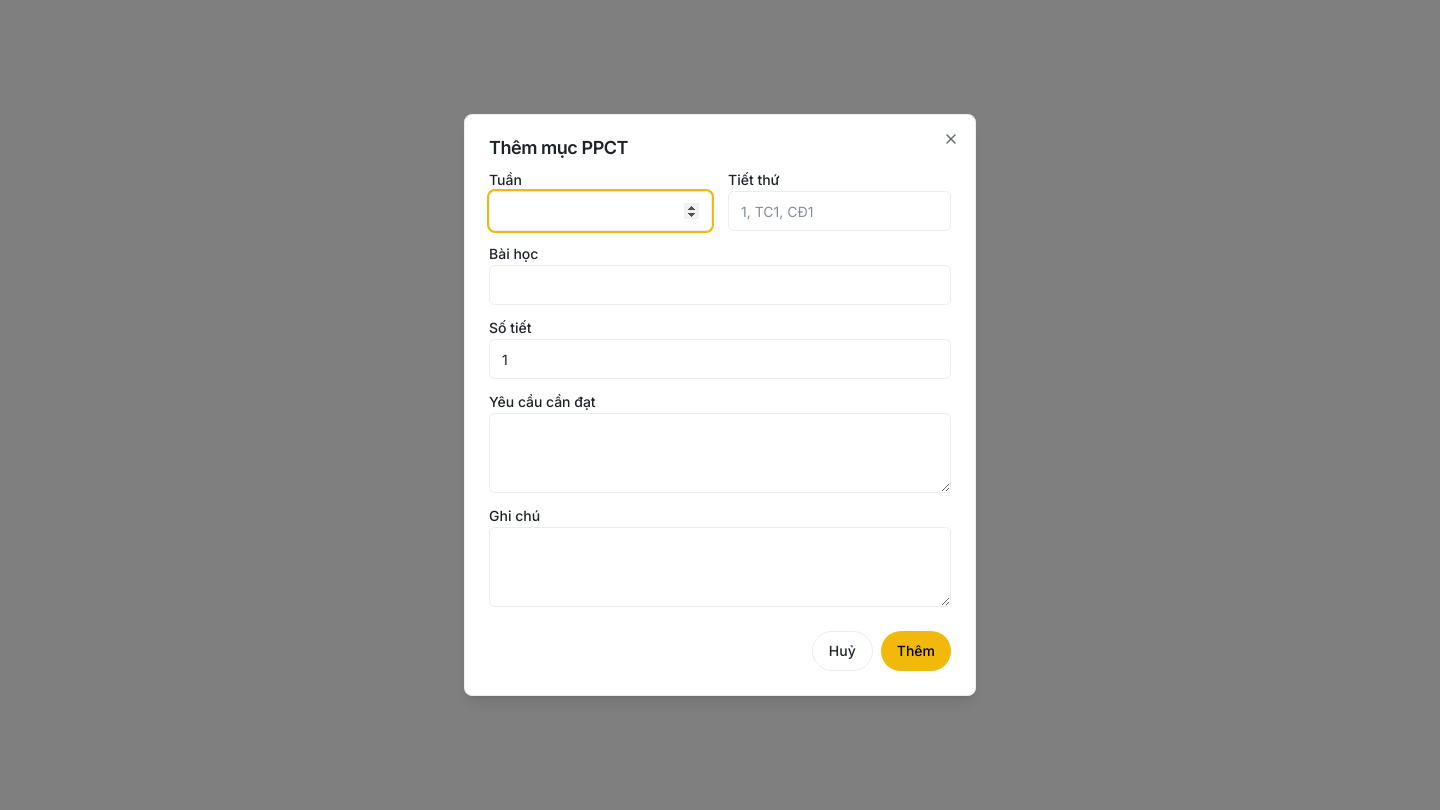
Scenario: tiền kiểm trước khi gọi API › Bài học để trống → hiện đúng thông báo và KHÔNG gọi API
This screenshot has width=1440, height=810.
In the number field labelled "Tuần": coordinates (600, 211) [489,191,712,231], type "1"
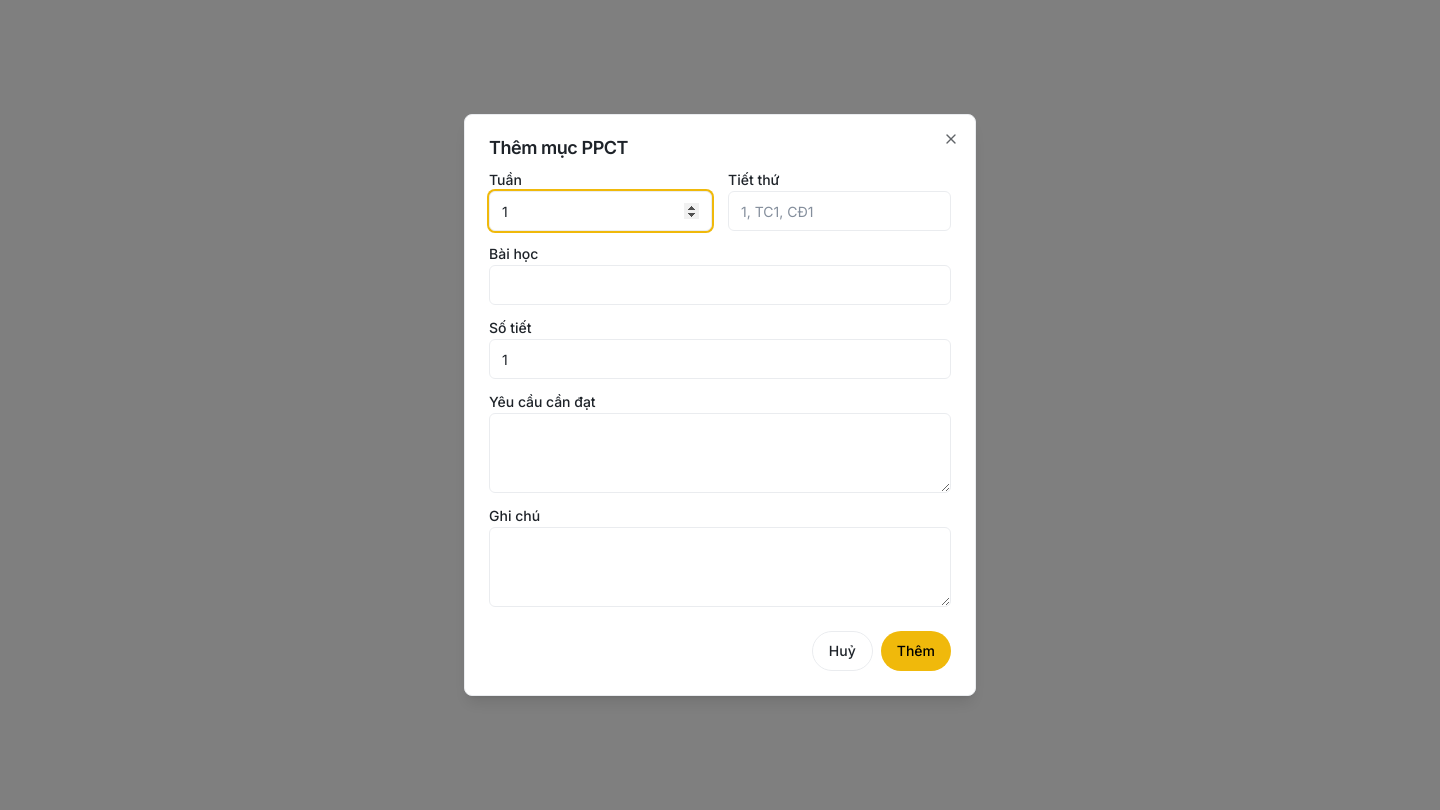
In the field labelled "Tiết thứ": coordinates (840, 211) [728,191,951,231], type "1"
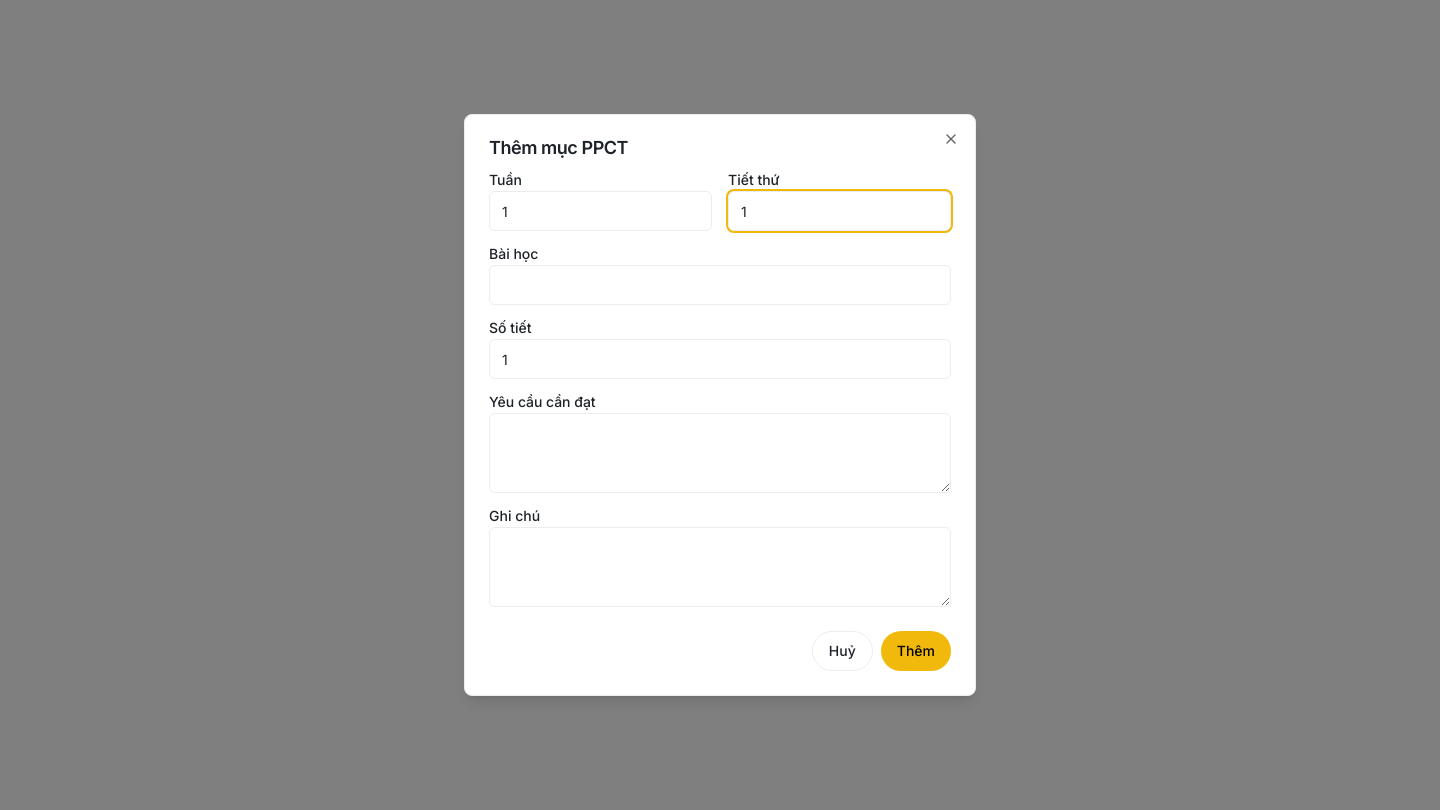
Click the button "Thêm": coordinates (916, 651) [881,631,951,671]
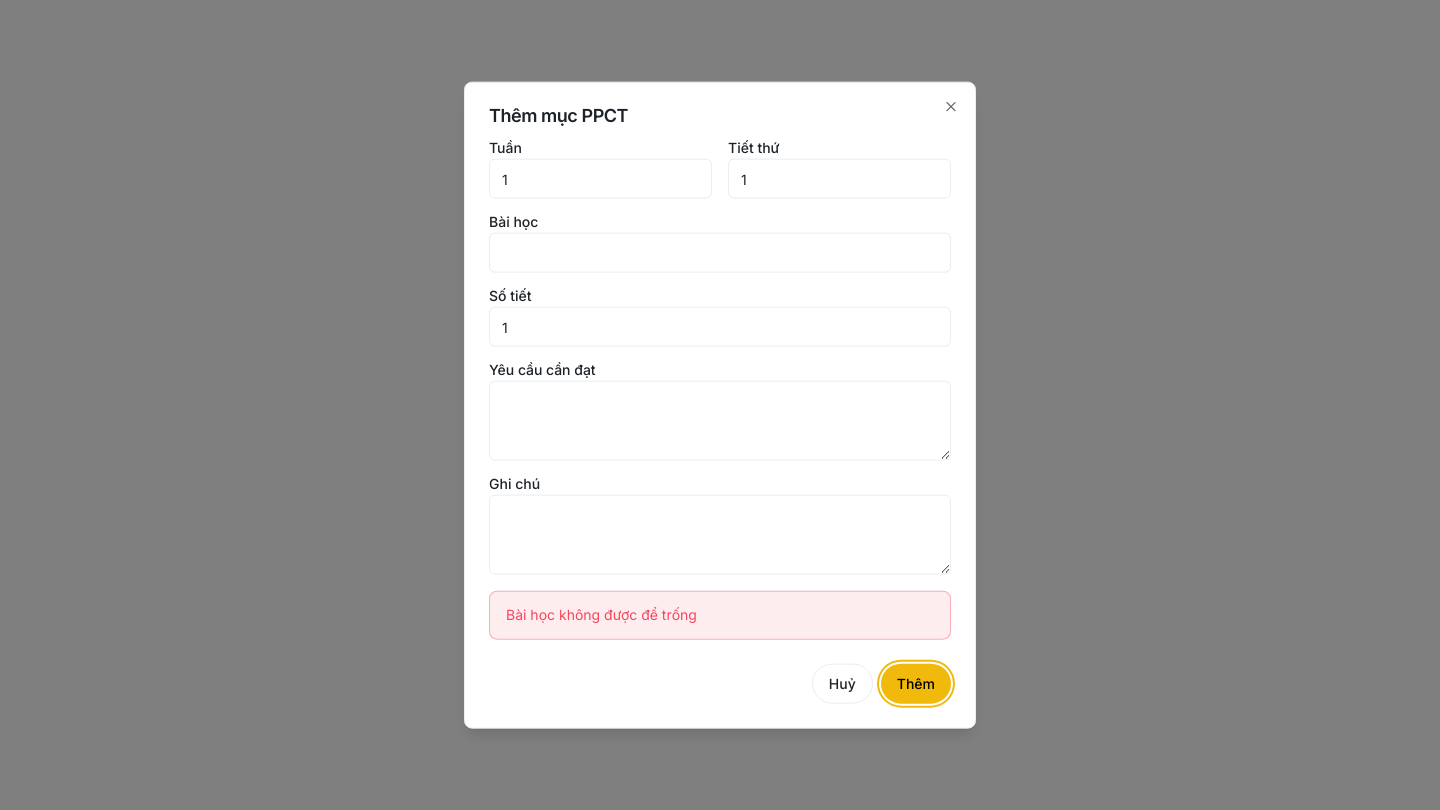
Expected: the text "Bài học không được để trống" is shown, [506,606,697,623]
